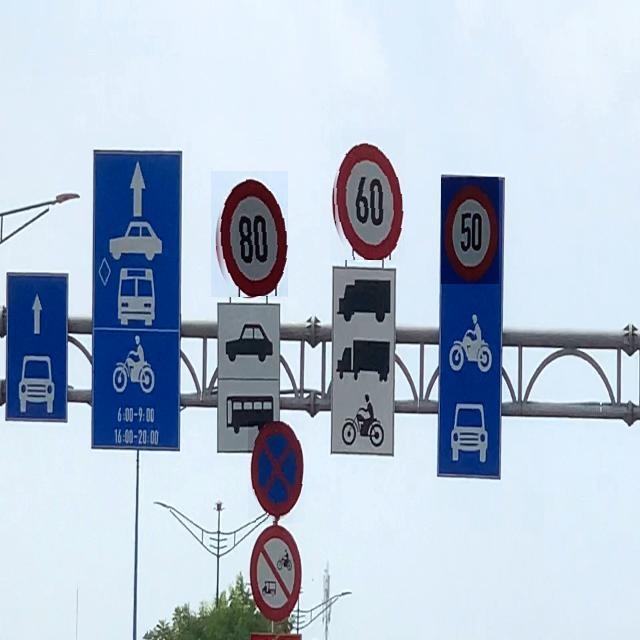P-127: (330, 130, 405, 262), (211, 171, 288, 297), (442, 177, 500, 284)
P-130: (248, 421, 305, 523)
